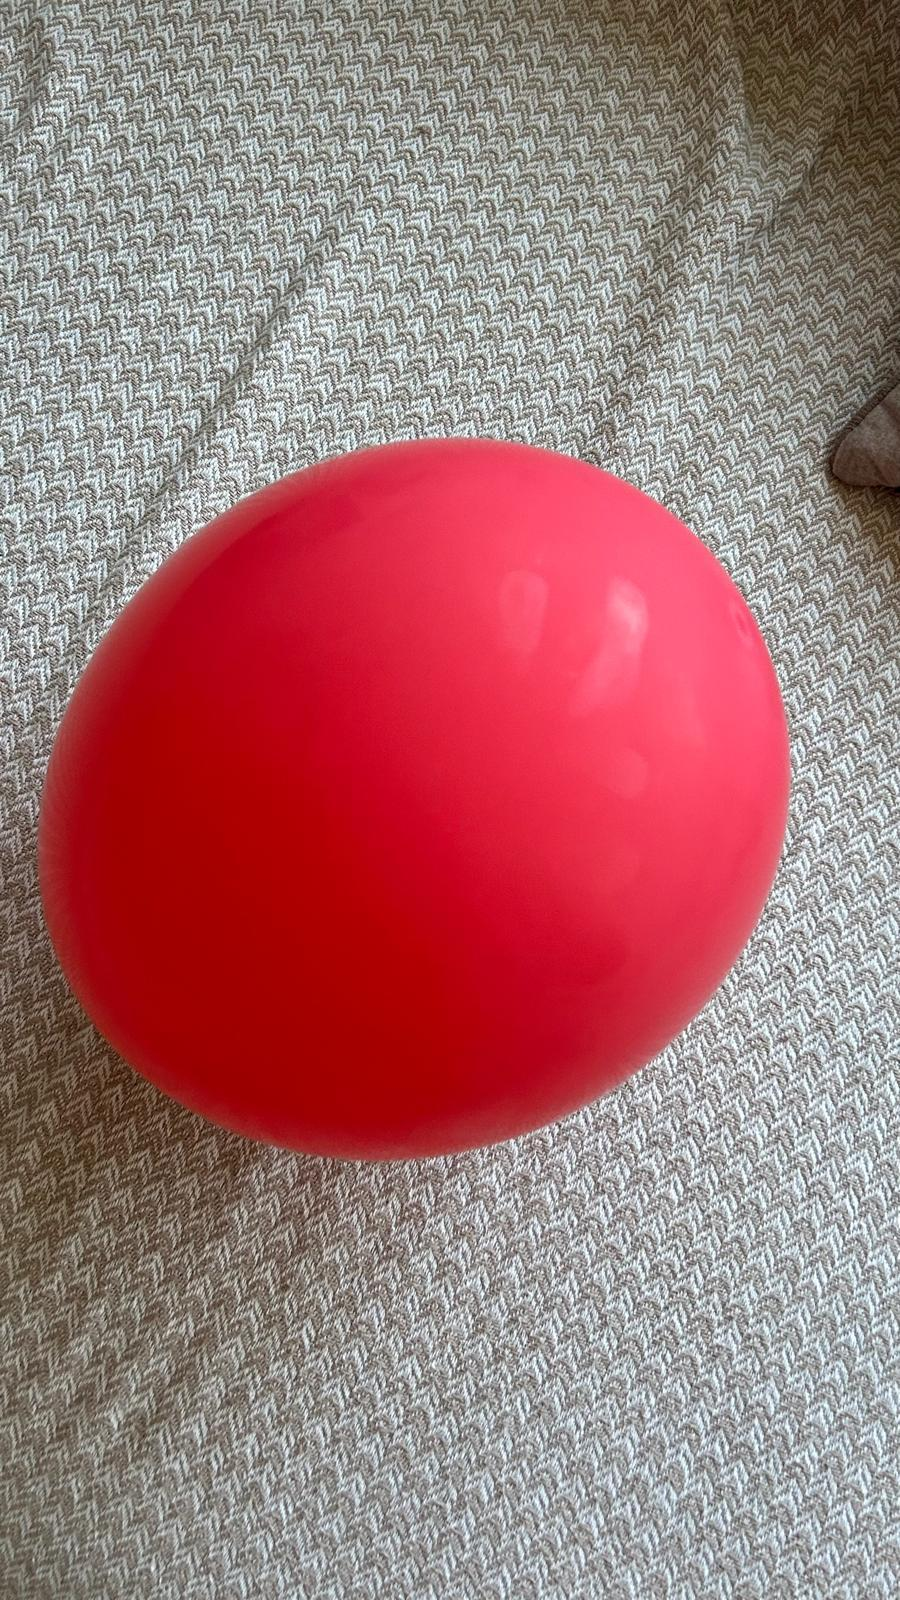red: (31, 435, 796, 1171)
